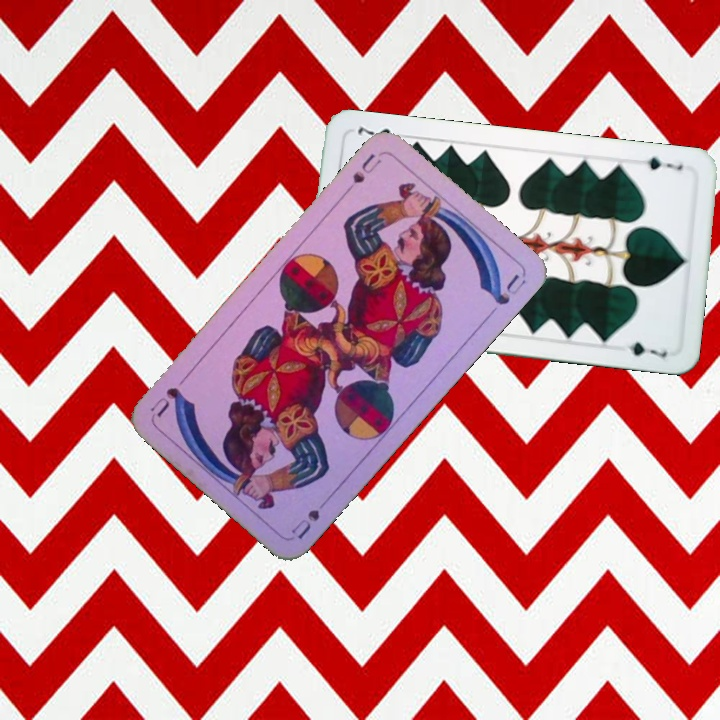G7: (643, 153, 685, 173)
SU: (287, 491, 334, 542), (340, 149, 385, 197)
